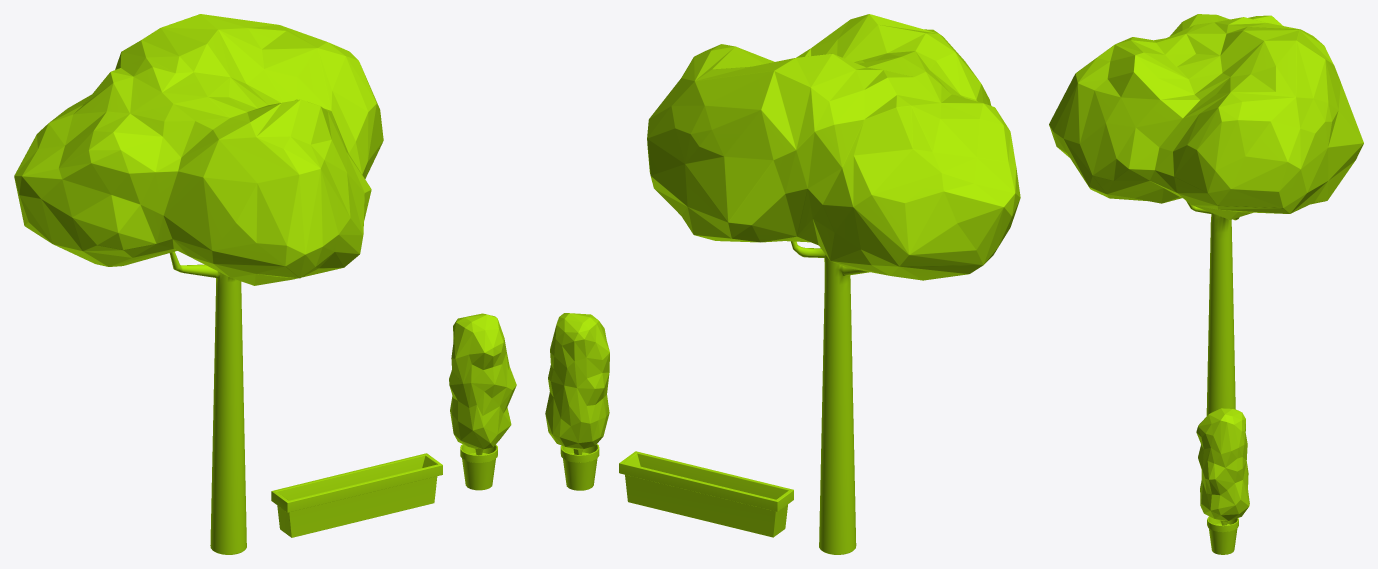
The model's file is School_Greenery.fbx.
3 views of the same model, side by side, from view 1: azimuth 30°, elevation 25°; view 2: azimuth 150°, elevation 25°; view 3: azimuth 270°, elevation 25° (orthographic). The views are drawn at different scales.
Visible parts, largest first — view 1: Tree_Top, Tree, Hedge_Pot, Bush_Bush, Bush_Pot; view 2: Tree_Top, Tree, Hedge_Pot, Bush_Bush, Bush_Pot; view 3: Tree_Top, Bush_Bush, Tree, Bush_Pot.
Boxes of the visible parts, x1,y1,x2,y2 form: Tree_Top: (14, 14, 383, 285); Tree: (169, 251, 246, 554); Hedge_Pot: (271, 453, 442, 537); Bush_Bush: (449, 313, 516, 455); Bush_Pot: (460, 444, 497, 490); Tree_Top: (647, 14, 1020, 280); Tree: (791, 241, 869, 554); Hedge_Pot: (619, 451, 793, 537); Bush_Bush: (545, 313, 609, 454); Bush_Pot: (560, 444, 599, 490); Tree_Top: (1049, 14, 1363, 219); Bush_Bush: (1196, 408, 1249, 525); Tree: (1186, 201, 1239, 415); Bush_Pot: (1207, 516, 1238, 554).
Size of the model in its own units: 22.23 by 22.32 by 15.36.
